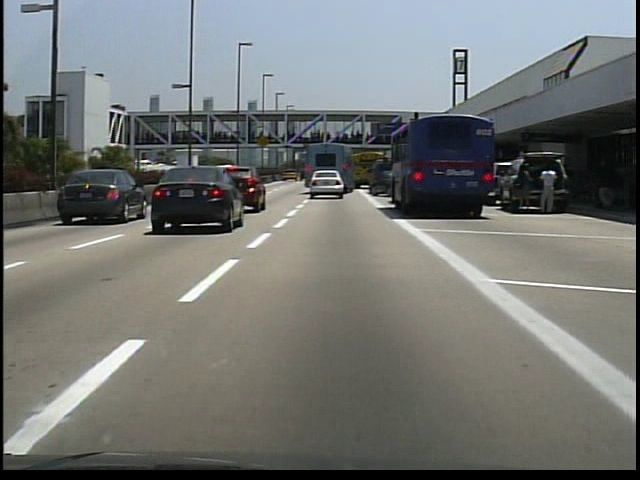person: (513, 162, 537, 220), (535, 159, 558, 216), (597, 159, 617, 214)
